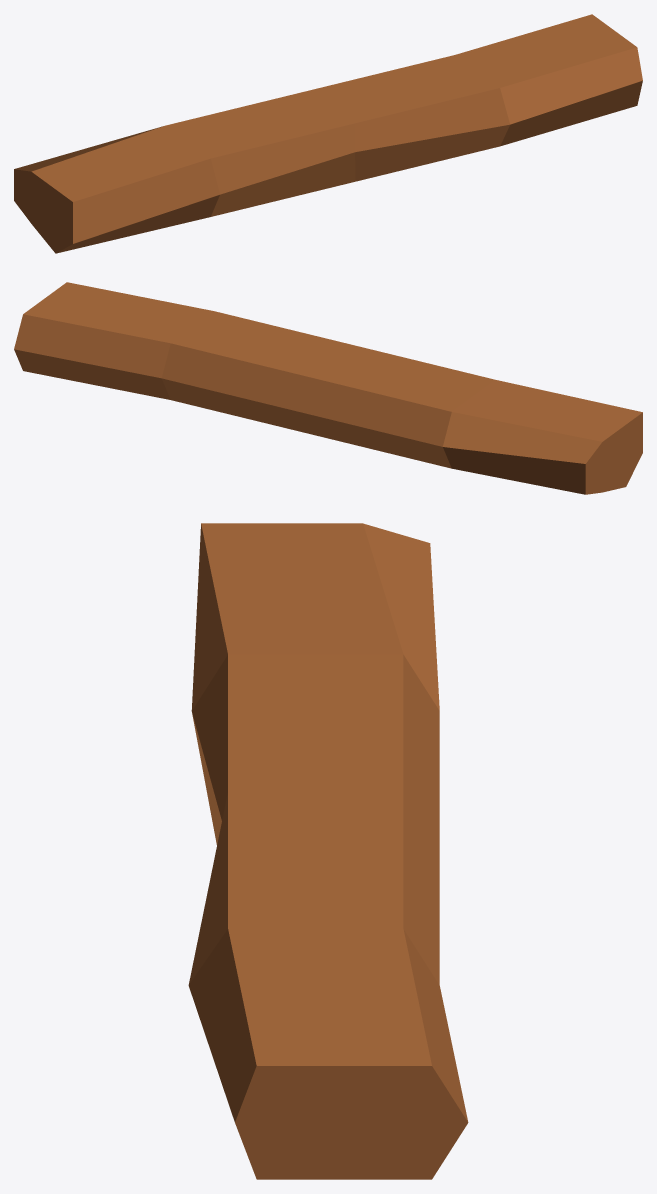
File: Log 1.fbx
3 views of the same model, one above another, from view 1: azimuth 30°, elevation 25°; view 2: azimuth 150°, elevation 25°; view 3: azimuth 270°, elevation 25° (orthographic). The views are drawn at different scales.
Parts seen in each view (by area): view 1: Log; view 2: Log; view 3: Log.
Boxes of the visible parts, x1=… form: Log: x1=14, y1=14, x2=642, y2=253; Log: x1=14, y1=282, x2=642, y2=494; Log: x1=188, y1=523, x2=468, y2=1179.
Bounding box in the file's own units: 311 × 34.66 × 67.05.
